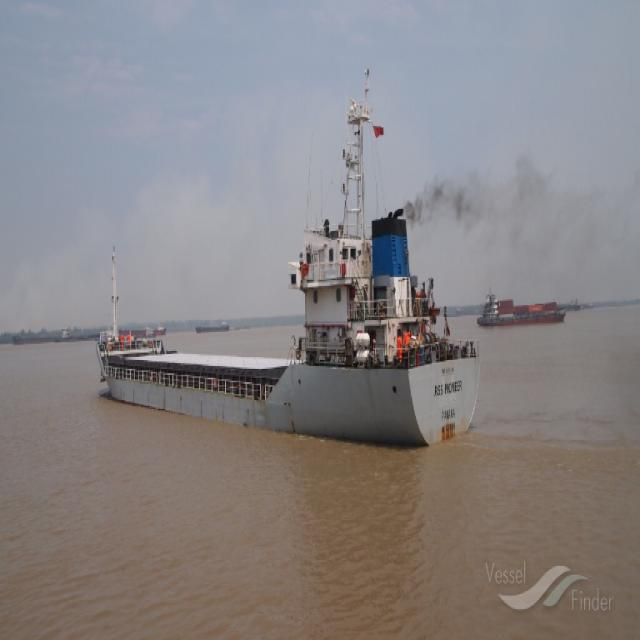OCR: (428, 378, 471, 398)
